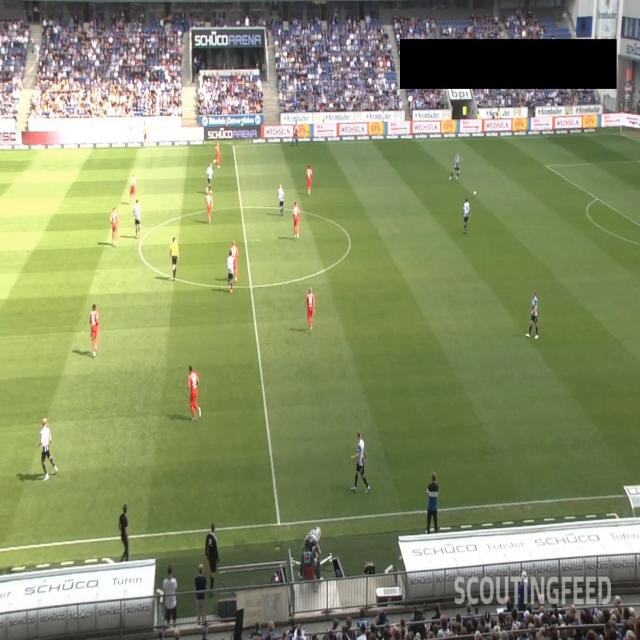ball: (473, 190, 477, 197)
